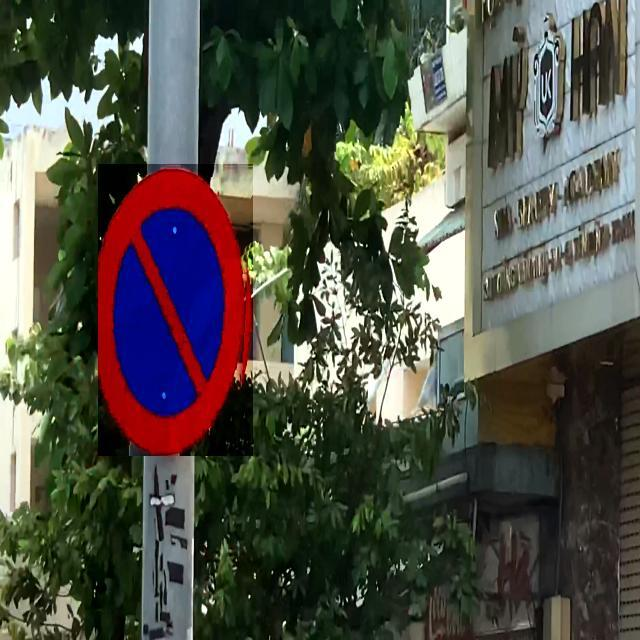P-131a: (98, 165, 253, 457)
